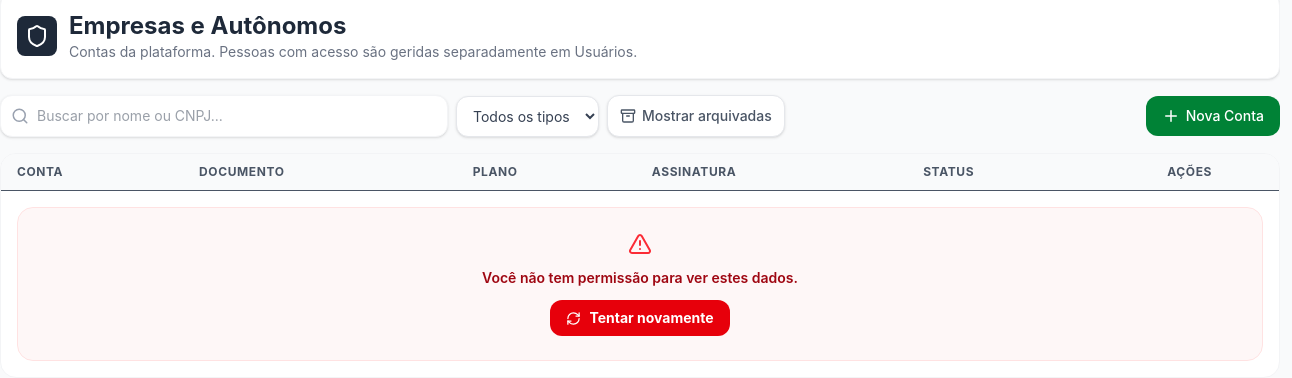
Test: PainelEmpresas (página real, API mockada) › 4. "Tentar novamente" recarrega
This screenshot has width=1292, height=378.
Click the button "Tentar novamente": (640, 318) [550,300,730,336]
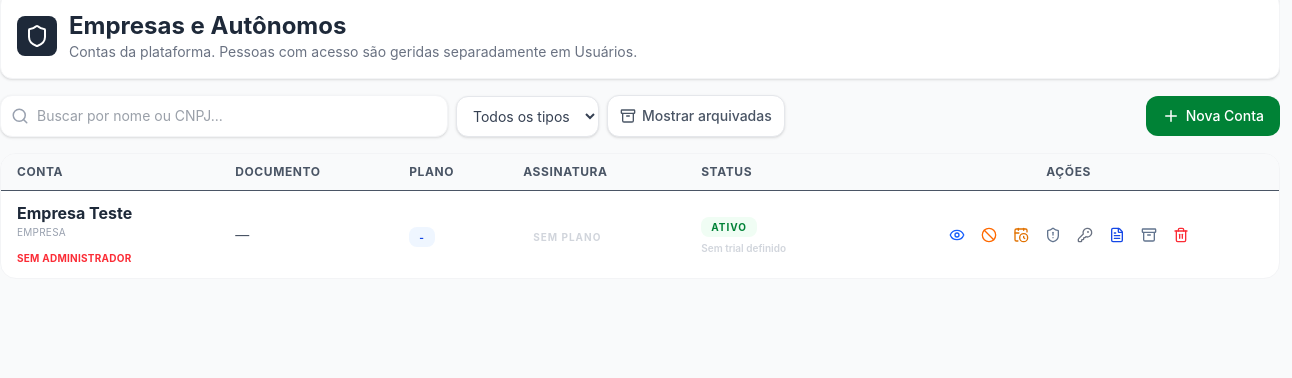
Expected: the text "Empresa Teste" is shown, [17,203,132,223]
